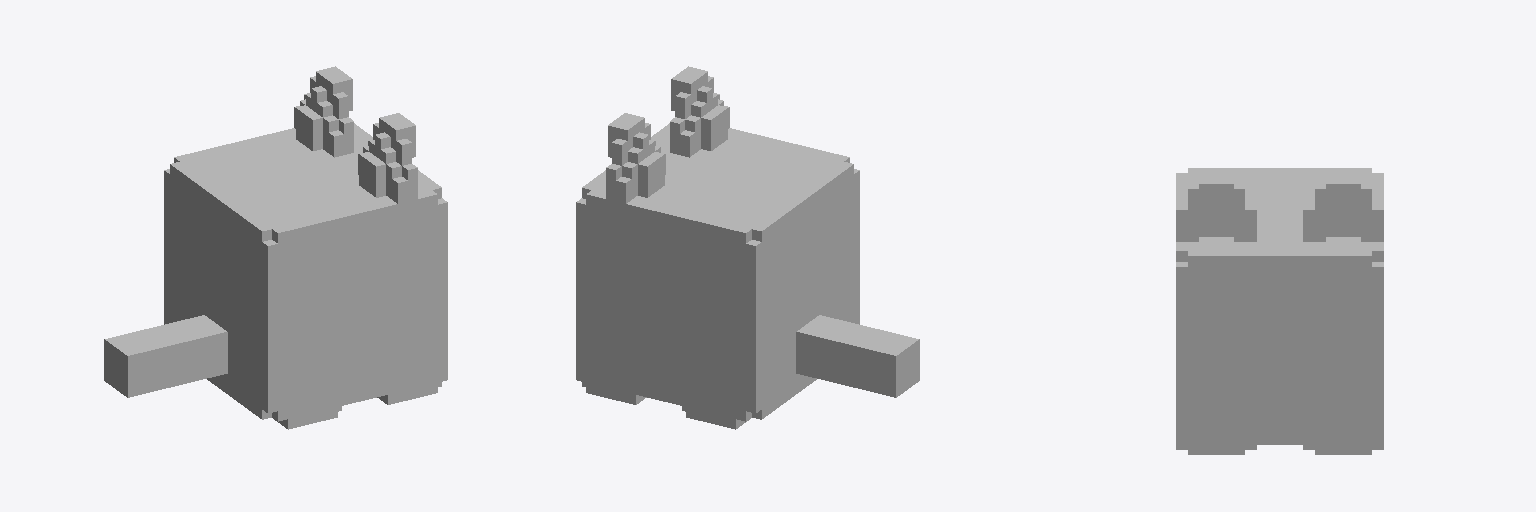
Rendered from ocelotblinking.obj.
3 views of the same model, side by side, from view 1: azimuth 30°, elevation 25°; view 2: azimuth 150°, elevation 25°; view 3: azimuth 270°, elevation 25° (orthographic).
Parts seen in each view (by area): view 1: object 1; view 2: object 1; view 3: object 1.
Boxes of the visible parts, x1,y1,x2,y2 form: object 1: [104, 66, 447, 429]; object 1: [576, 66, 919, 429]; object 1: [1176, 168, 1383, 454].
Size of the model in its own units: 2.8 by 2.5 by 1.8.